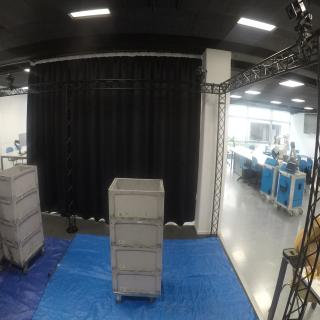Box4G: (110, 177, 167, 225), (3, 226, 47, 268), (2, 208, 43, 249), (110, 222, 166, 252), (1, 188, 40, 228), (2, 163, 41, 203), (112, 273, 165, 299), (111, 251, 164, 275)
